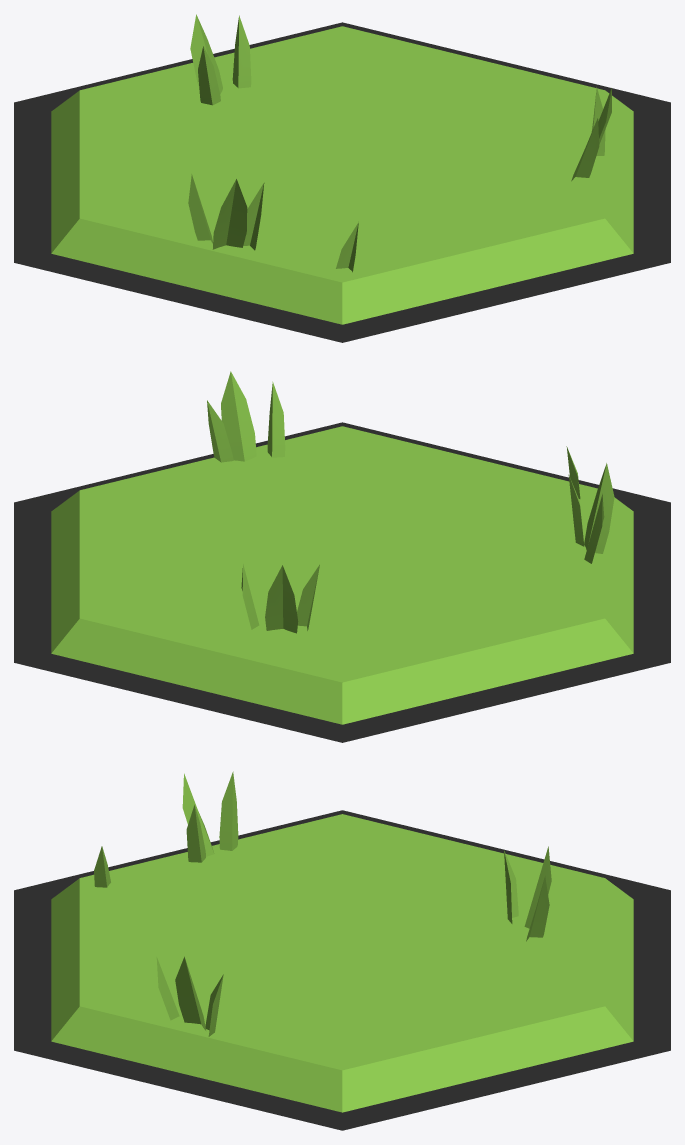
File: GrassTile.fbx
3 renders of one model, top to bottom at view 1: azimuth 30°, elevation 25°; view 2: azimuth 150°, elevation 25°; view 3: azimuth 270°, elevation 25°, orthographic.
Parts seen in each view (by area): view 1: Plane; view 2: Plane; view 3: Plane.
Part boxes in pixels (box(x1,y1,x2,y2)): Plane: box(14, 14, 670, 342); Plane: box(14, 371, 670, 742); Plane: box(14, 771, 670, 1130).
Size of the model in its own units: 100 by 19.54 by 86.6.
